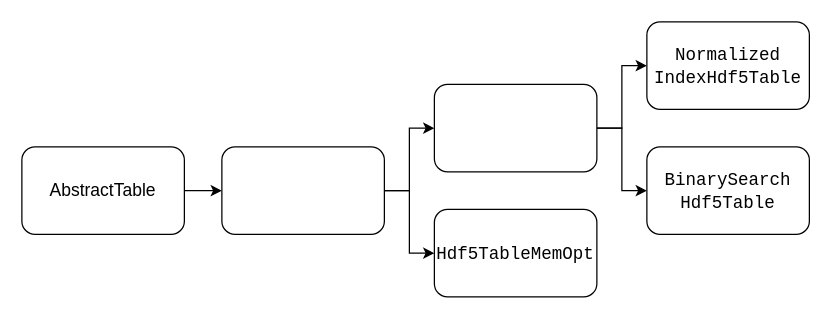
Some shapes in this 831 by 319 pixel diagram are drawn without their labels. Each missing label, with the box of its shape:
Abstract NormalizationTable: (221, 146, 384, 234)
NaiveHdf5Table: (433, 83, 597, 172)
